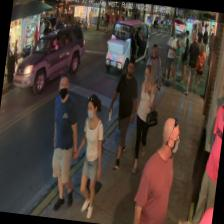person: (42, 72, 86, 212), (130, 113, 181, 224), (66, 92, 110, 218), (102, 56, 140, 168), (126, 64, 160, 174), (139, 42, 166, 123)
